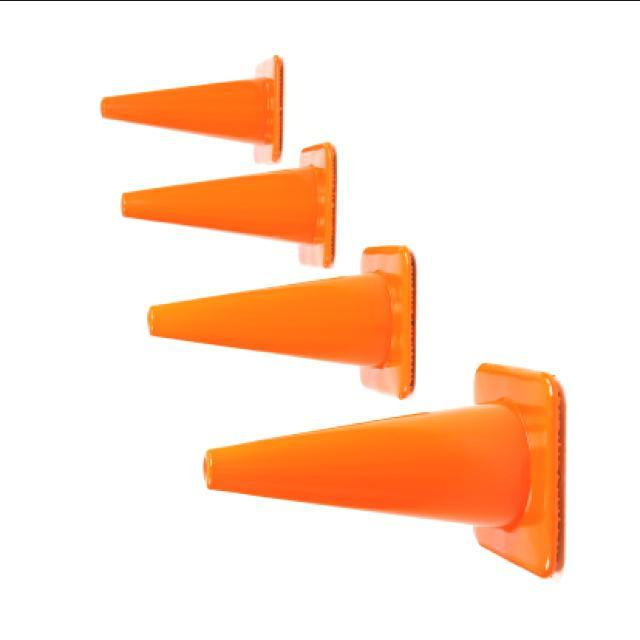traffic cone: (200, 362, 568, 580), (147, 245, 417, 399)
traffic light: (201, 361, 567, 580), (473, 363, 567, 579)
